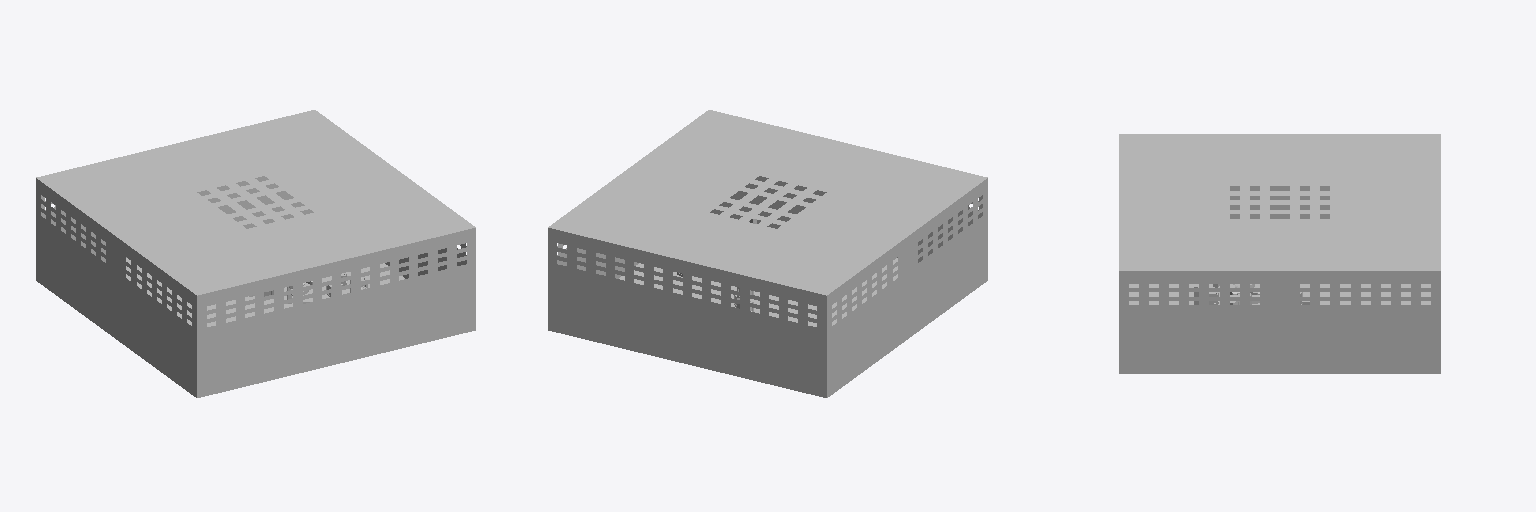
Rendered from stage1.obj.
The picture shows the model from 3 angles: view 1: azimuth 30°, elevation 25°; view 2: azimuth 150°, elevation 25°; view 3: azimuth 270°, elevation 25°; orthographic projection.
Visible parts, largest first — view 1: Plane; view 2: Plane; view 3: Plane.
Part boxes in pixels (x1,y1,x2,y2): Plane: (36, 110, 475, 397); Plane: (548, 110, 987, 397); Plane: (1119, 134, 1440, 373).
Bounding box in the file's own units: 53.39 × 19.5 × 53.39.